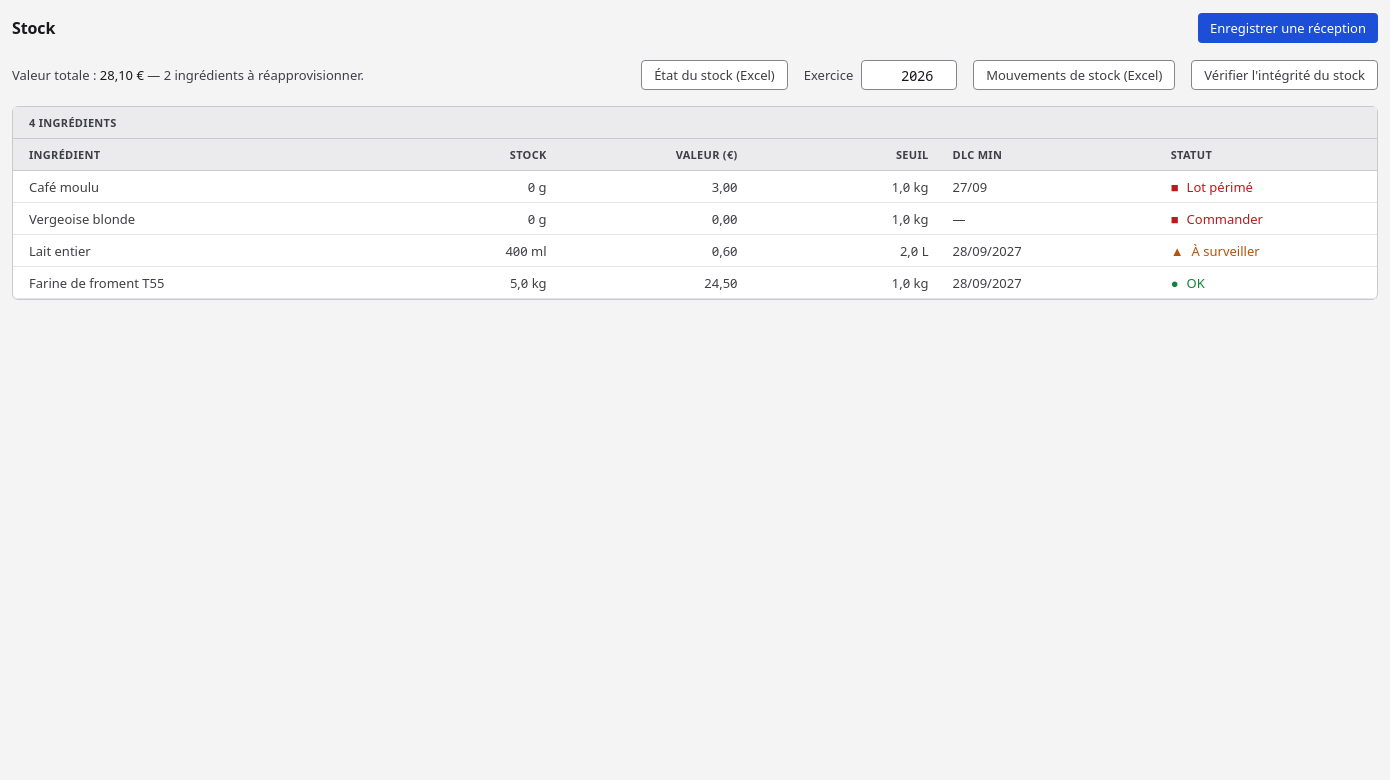
Test: Stock — urgence et péremption › un lot administrativement « disponible » mais périmé s’affiche « Périmé » dans son détail (G6)
This screenshot has width=1390, height=780.
Click the row "Café moulu 0 g 3,00 1,0 kg 27/09 ■ Lot périmé". click: click(695, 187)
box: [13, 171, 1377, 203]
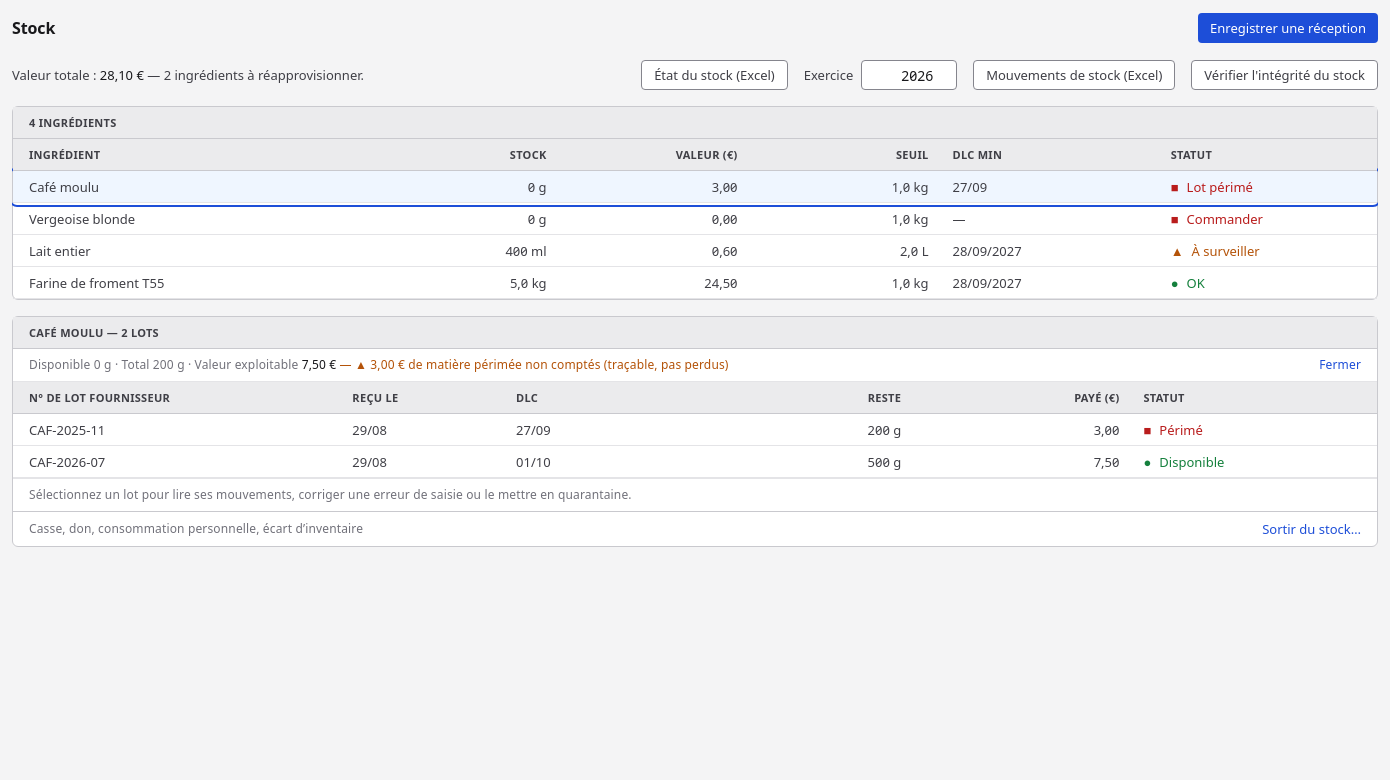
Check: the row "CAF-2025-11 29/08 27/09 200 g 3,00 ■ Périmé" is shown, box [13, 414, 1377, 446]
Check: the cell "■ Périmé" is shown, box [1132, 414, 1377, 446]
Check: the cell "● Disponible" is shown, box [1132, 446, 1377, 478]
